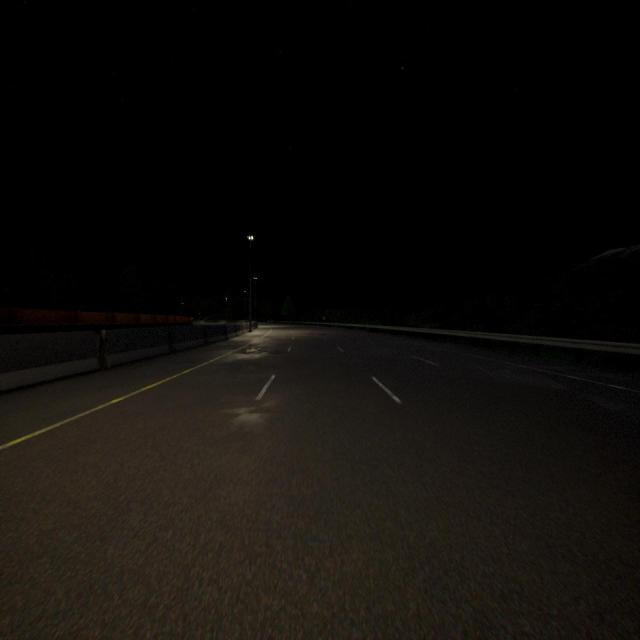Traffic_Signs: (322, 316, 326, 320)
